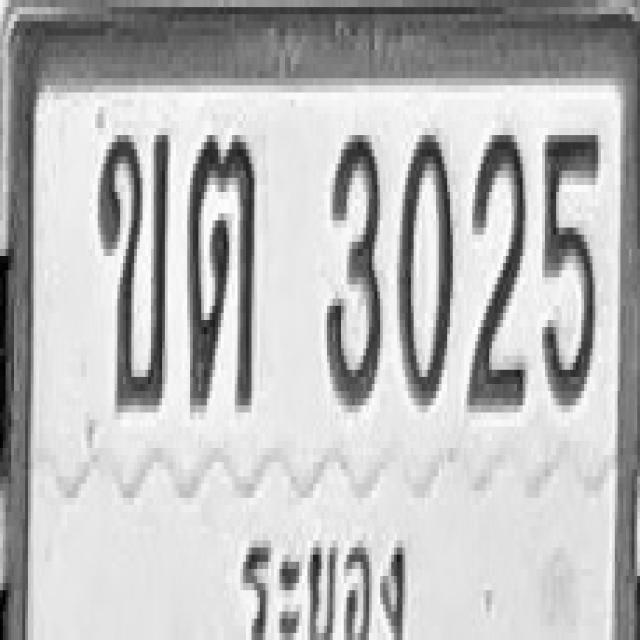0: (397, 128, 453, 405)
11KhorKhai: (98, 131, 168, 409)
2: (468, 128, 527, 405)
3: (326, 128, 382, 405)
30TorTao: (188, 131, 255, 409)
5: (541, 128, 599, 405)
Rayong: (232, 526, 414, 640)
